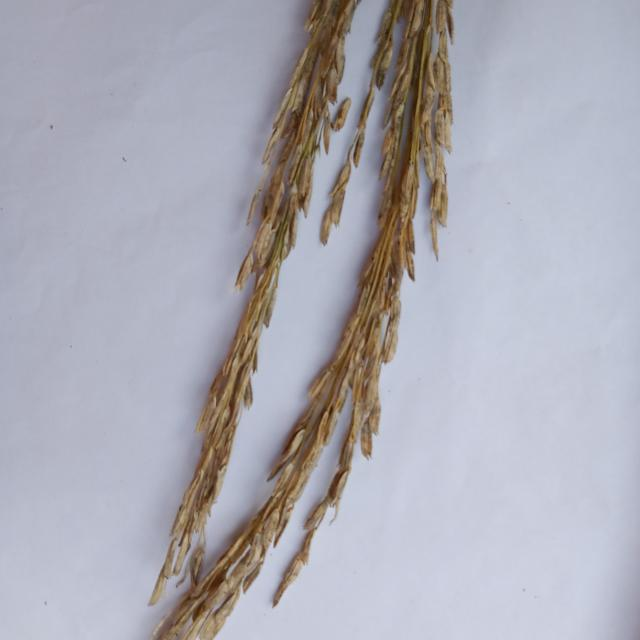Neck_Blast: (166, 4, 446, 640), (170, 2, 354, 541)
